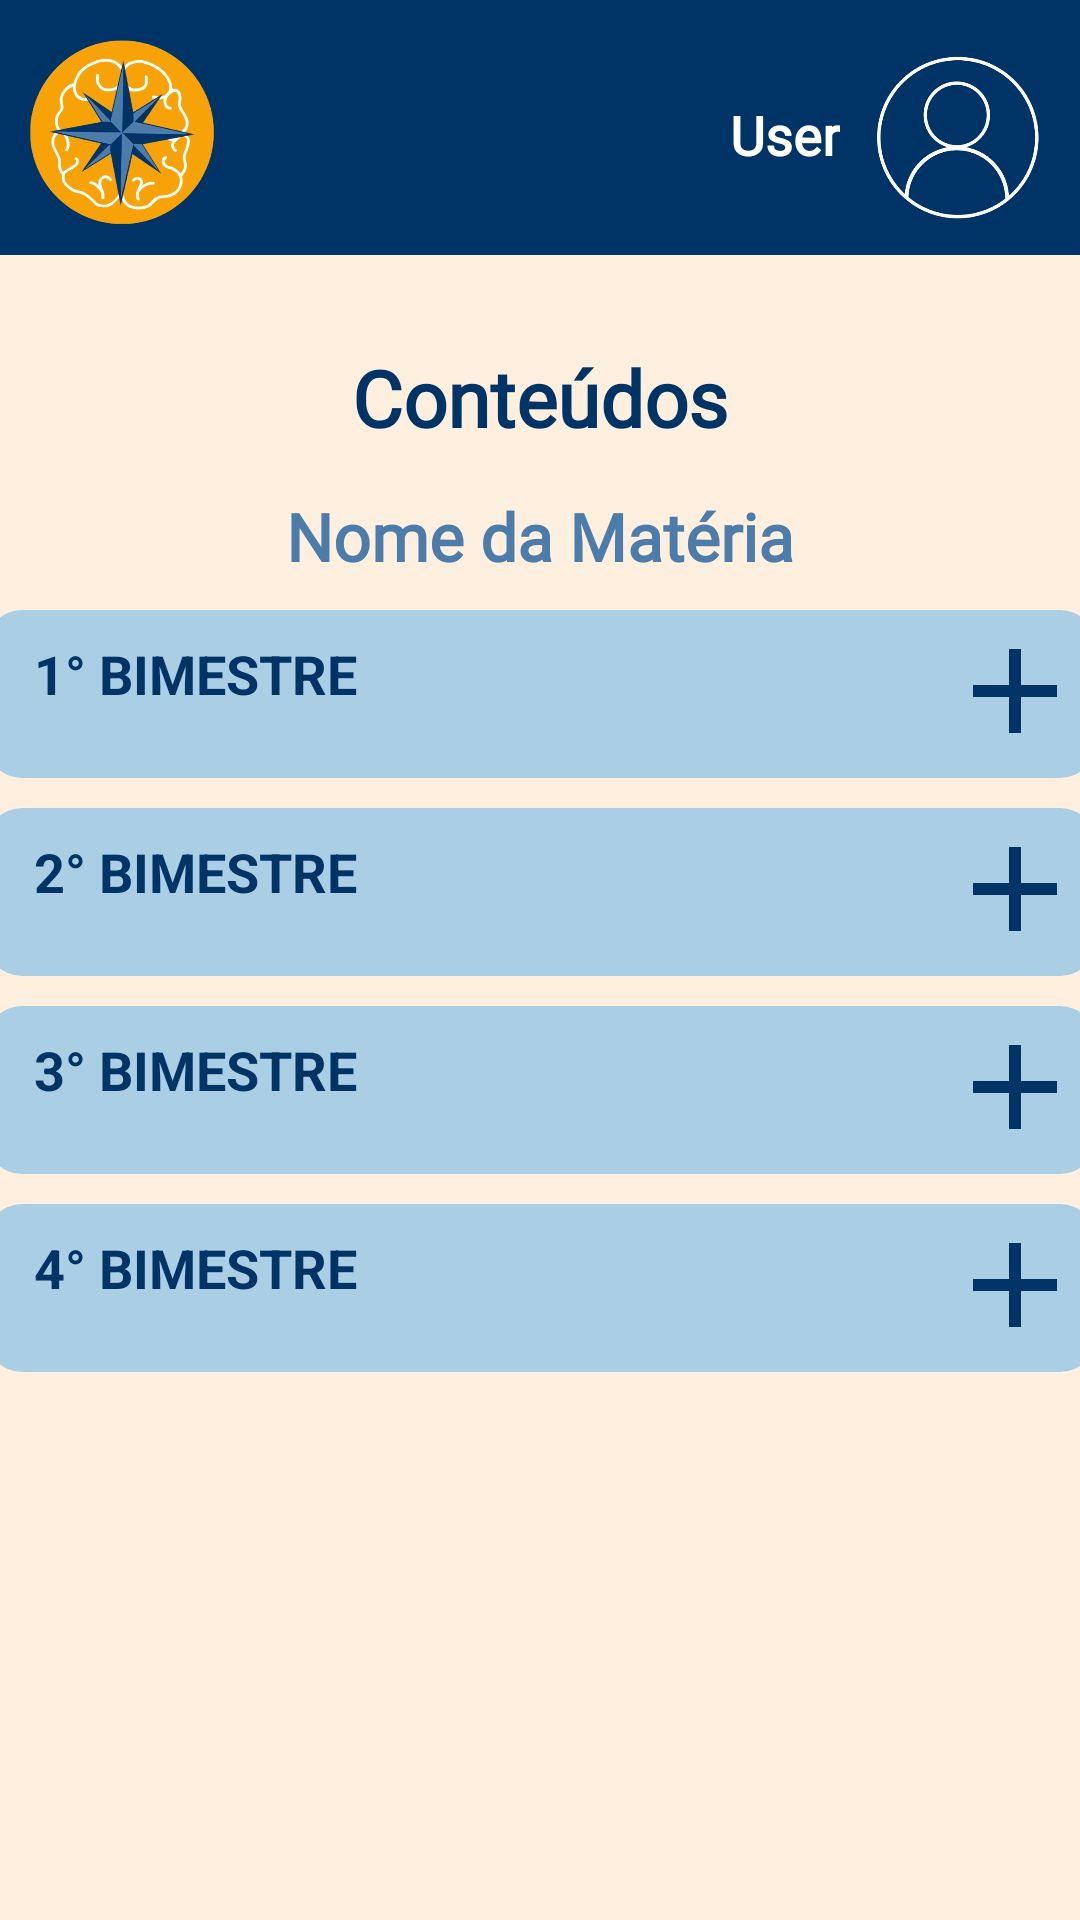

Where icons sit on this 1080w x 1920h app screen, as (x1, y1, x2, y2):
add: (973, 649, 1057, 733), (973, 847, 1057, 931), (973, 1045, 1057, 1129), (973, 1243, 1057, 1327)
perfil: (877, 57, 1039, 219)
